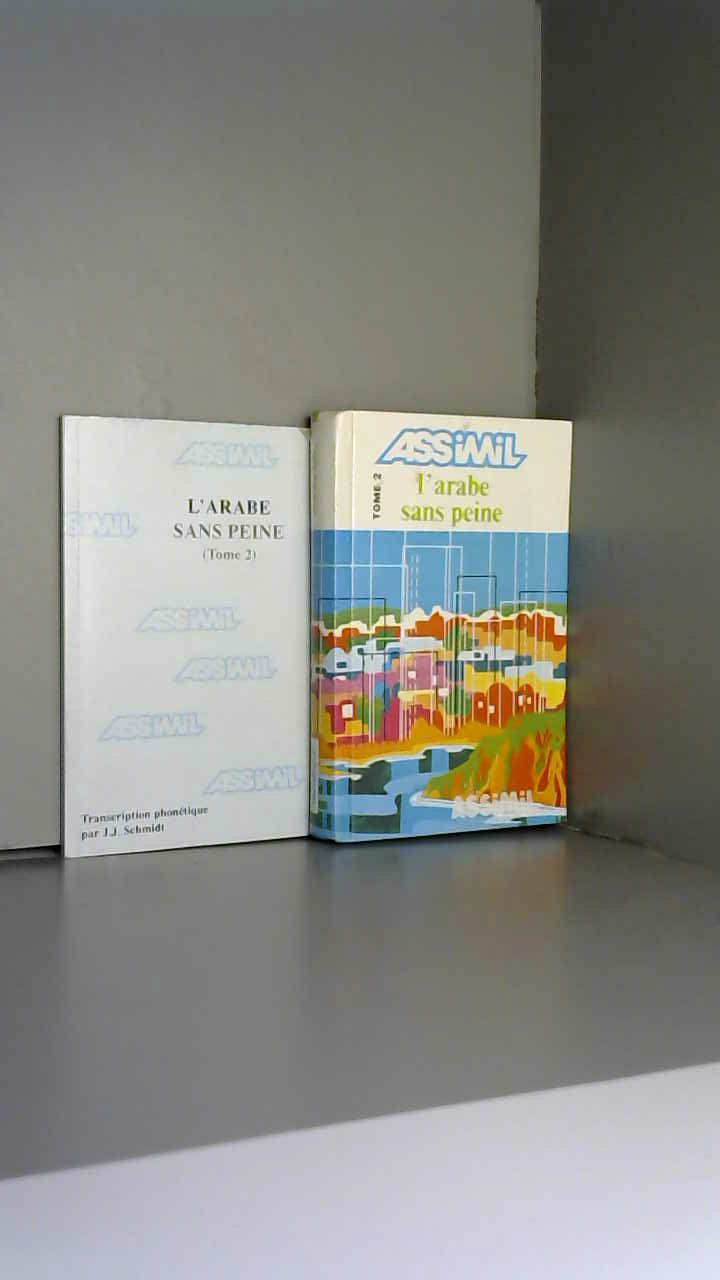book: (38, 376, 594, 879)
